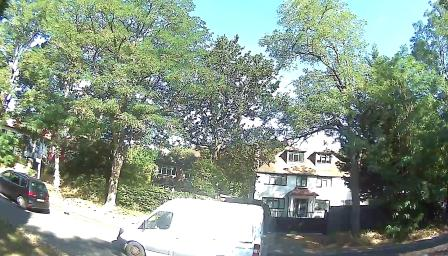Cars: (113, 196, 286, 254), (0, 165, 53, 211)
